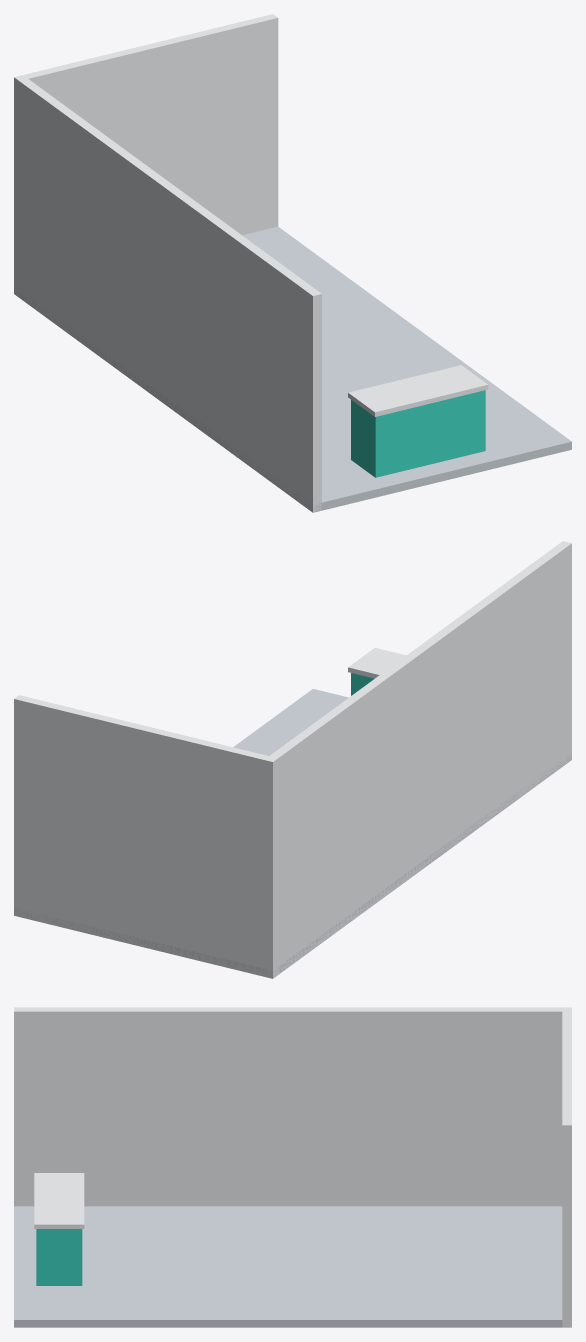
3 views of the same model, one above another, from view 1: azimuth 30°, elevation 25°; view 2: azimuth 150°, elevation 25°; view 3: azimuth 270°, elevation 25° (orthographic). The views are drawn at different scales.
Visible parts, largest first — view 1: Exhibition Booth Concept; view 2: Exhibition Booth Concept; view 3: Exhibition Booth Concept.
Part boxes in pixels (left/top/right/bottom): Exhibition Booth Concept: left=14, top=14, right=571, bottom=512; Exhibition Booth Concept: left=14, top=541, right=571, bottom=978; Exhibition Booth Concept: left=14, top=1007, right=571, bottom=1327.
Bounding box in the file's own units: 4 × 3.2 × 8.
